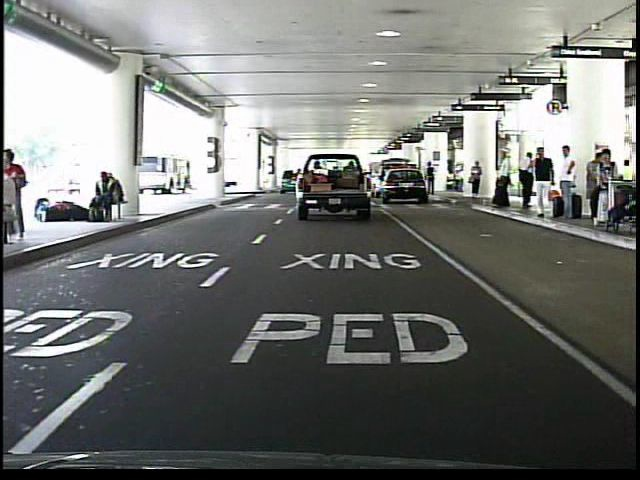person: (557, 141, 583, 229), (531, 144, 558, 222), (490, 149, 515, 214), (468, 160, 484, 202), (425, 160, 437, 198)
